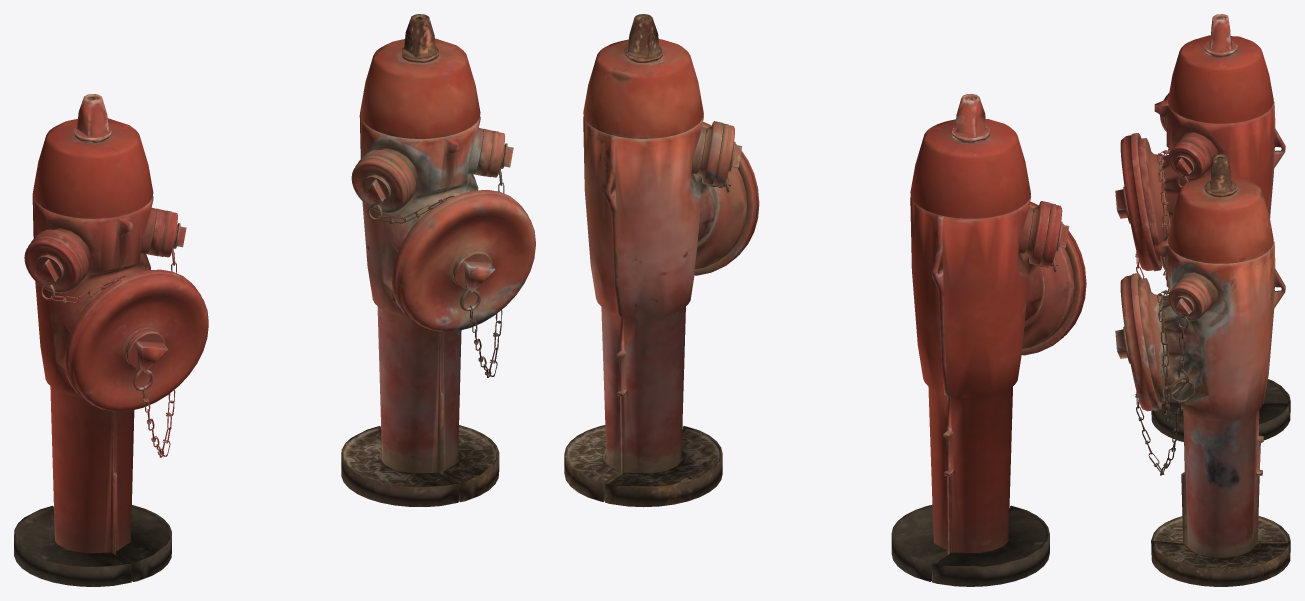
The model's file is fire_hydrant.glb.
3 views of the same model, side by side, from view 1: azimuth 30°, elevation 25°; view 2: azimuth 150°, elevation 25°; view 3: azimuth 270°, elevation 25° (orthographic). The views are drawn at different scales.
Parts seen in each view (by area): view 1: fire_hydrant_aged, fire_hydrant, fire_hydrant_cap_01, fire_hydrant_cap_01_aged, fire_hydrant_cap_03, fire_hydrant_cap_03_aged, fire_hydrant_chain, fire_hydrant_chain_aged, fire_hydrant_cap_02, fire_hydrant_cap_02_aged; view 2: fire_hydrant, fire_hydrant_aged, fire_hydrant_cap_01, fire_hydrant_cap_01_aged, fire_hydrant_cap_03_aged, fire_hydrant_cap_03; view 3: fire_hydrant_aged, fire_hydrant, fire_hydrant_cap_01, fire_hydrant_cap_01_aged, fire_hydrant_chain_aged, fire_hydrant_cap_02_aged, fire_hydrant_cap_02, fire_hydrant_chain.
Boxes of the visible parts, <box> form: fire_hydrant_aged: <box>341,14,499,506</box>; fire_hydrant: <box>14,94,171,586</box>; fire_hydrant_cap_01: <box>64,269,208,411</box>; fire_hydrant_cap_01_aged: <box>391,190,535,331</box>; fire_hydrant_cap_03: <box>24,235,83,293</box>; fire_hydrant_cap_03_aged: <box>351,155,410,213</box>; fire_hydrant_chain: <box>40,224,177,457</box>; fire_hydrant_chain_aged: <box>367,145,504,377</box>; fire_hydrant_cap_02: <box>158,210,186,257</box>; fire_hydrant_cap_02_aged: <box>485,130,513,177</box>; fire_hydrant: <box>891,94,1074,586</box>; fire_hydrant_aged: <box>564,14,747,507</box>; fire_hydrant_cap_01: <box>1021,201,1086,355</box>; fire_hydrant_cap_01_aged: <box>694,122,759,275</box>; fire_hydrant_cap_03_aged: <box>712,123,741,186</box>; fire_hydrant_cap_03: <box>1039,203,1069,266</box>; fire_hydrant_aged: <box>1138,154,1290,586</box>; fire_hydrant: <box>1138,14,1290,441</box>; fire_hydrant_cap_01: <box>1115,133,1161,271</box>; fire_hydrant_cap_01_aged: <box>1115,273,1161,411</box>; fire_hydrant_chain_aged: <box>1135,289,1195,475</box>; fire_hydrant_cap_02_aged: <box>1168,281,1208,320</box>; fire_hydrant_cap_02: <box>1168,141,1208,180</box>; fire_hydrant_chain: <box>1135,149,1193,280</box>.
Size of the model in its own units: 0.8746 by 0.7994 by 0.3173.
Materials: 2 (2 with a texture image).
